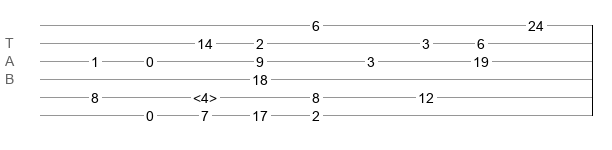0: (146, 108, 154, 118), (146, 54, 154, 64)
1: (91, 54, 99, 64)
12: (418, 90, 434, 100)
14: (197, 36, 213, 46)
17: (252, 108, 268, 118)
18: (252, 72, 268, 82)
19: (473, 54, 489, 64)
2: (256, 36, 264, 46), (312, 108, 320, 118)
24: (528, 18, 544, 28)
3: (367, 54, 375, 64), (422, 36, 430, 46)
6: (312, 18, 320, 28), (477, 36, 485, 46)
7: (201, 108, 209, 118)
8: (91, 90, 99, 100), (312, 90, 320, 100)
9: (256, 54, 264, 64)
harmonic: (193, 90, 217, 100)
